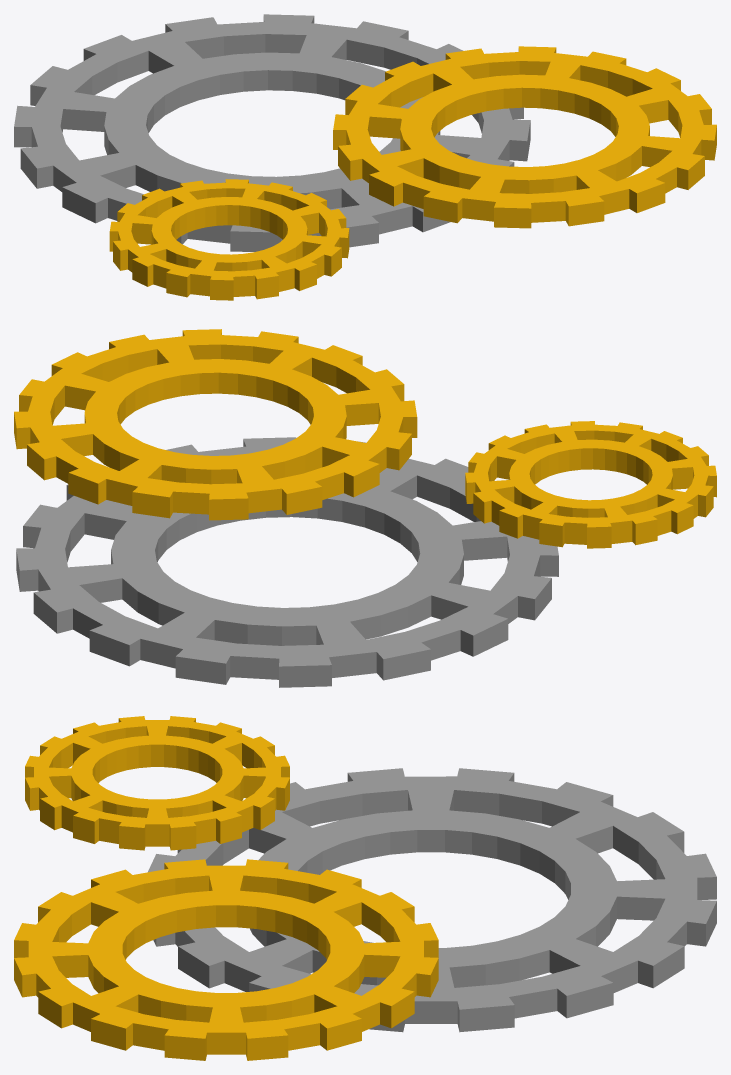
File: gear.glb
The picture shows the model from 3 angles, top to bottom: view 1: azimuth 30°, elevation 25°; view 2: azimuth 150°, elevation 25°; view 3: azimuth 270°, elevation 25°; orthographic projection. The views are drawn at different scales.
Visible parts, largest first — view 1: 円柱.001, 円柱.002, 円柱; view 2: 円柱.001, 円柱.002, 円柱; view 3: 円柱.001, 円柱.002, 円柱.
Boxes of the visible parts, x1,y1,x2,y2 form: 円柱.001: (14,14,530,251); 円柱.002: (333,46,716,228); 円柱: (109,179,349,300); 円柱.001: (16,437,558,687); 円柱.002: (14,329,417,520); 円柱: (465,421,716,548); 円柱.001: (148,768,716,1032); 円柱.002: (14,859,438,1060); 円柱: (25,716,289,850).
Size of the model in its own units: 6.16 by 0.4402 by 5.67.
